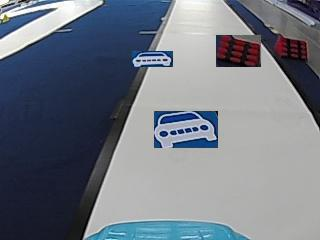bomb: (273, 37, 309, 59)
